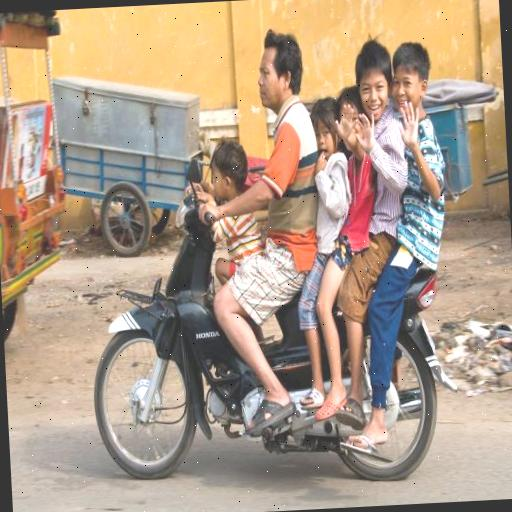no helmet: (228, 16, 314, 119)
triple riding: (75, 16, 462, 498)
